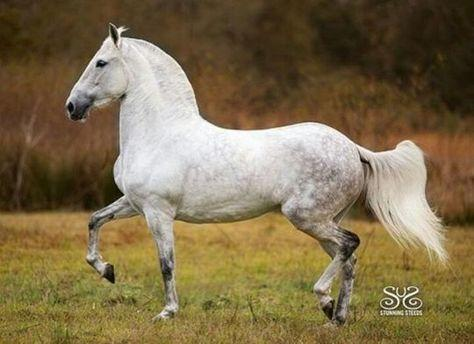horse: (63, 21, 452, 327)
